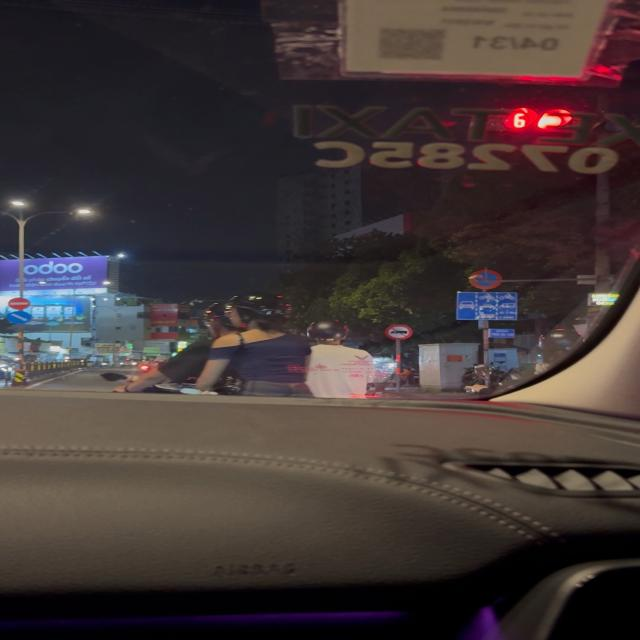Bien bao cam xe so-mi ro-mooc: (383, 324, 413, 341)
